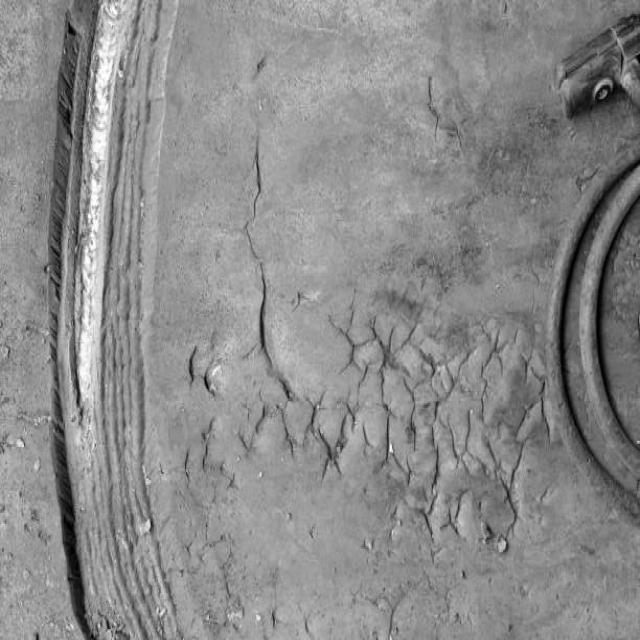Crack: (316, 301, 550, 541), (242, 136, 280, 388)
